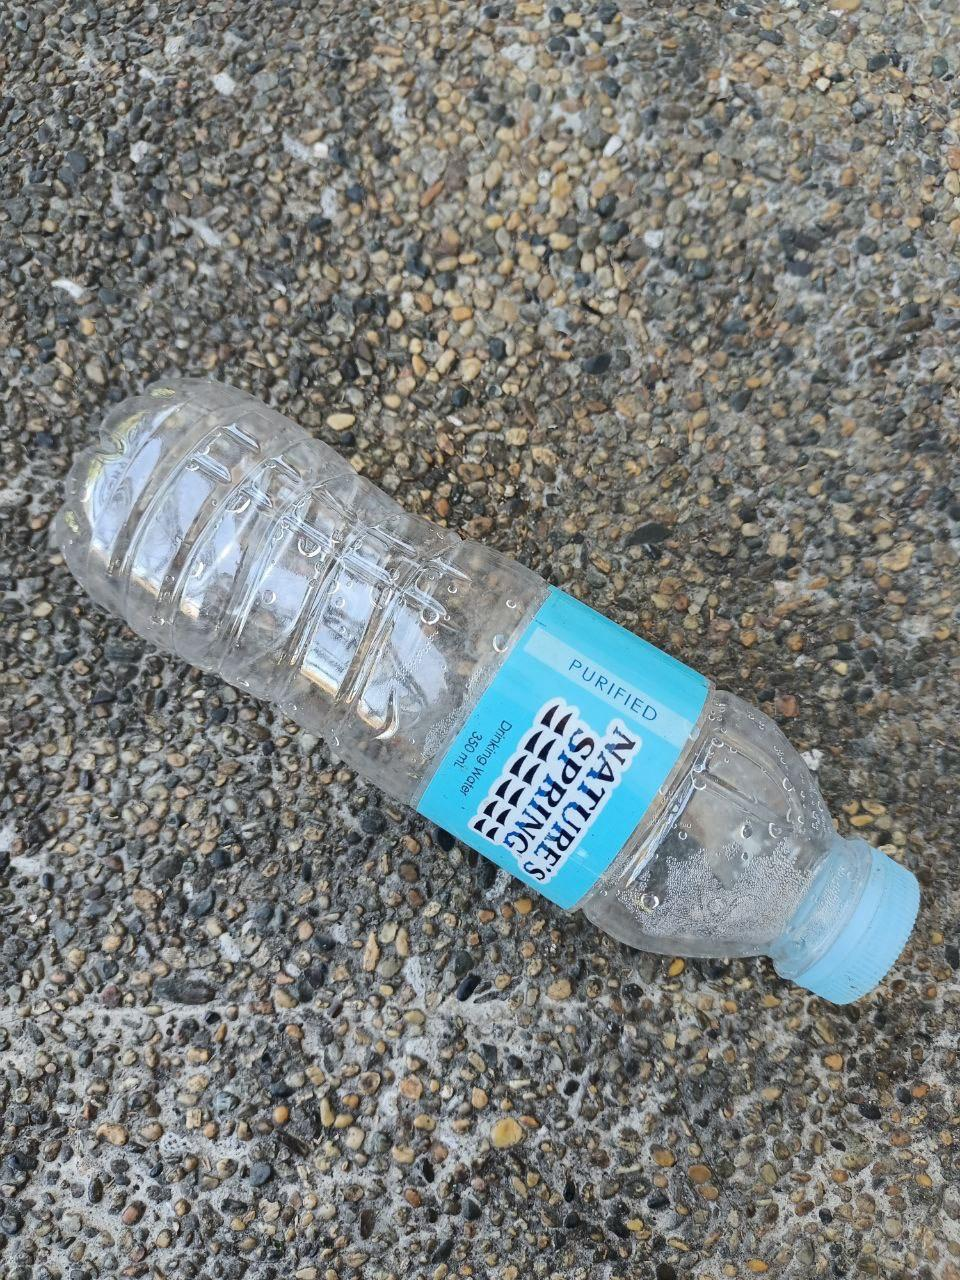plastic: (0, 346, 937, 1046)
